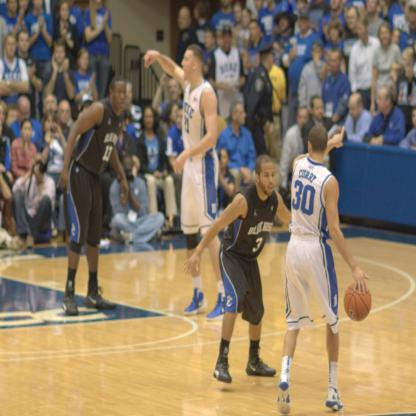Ball: (343, 284, 372, 322)
